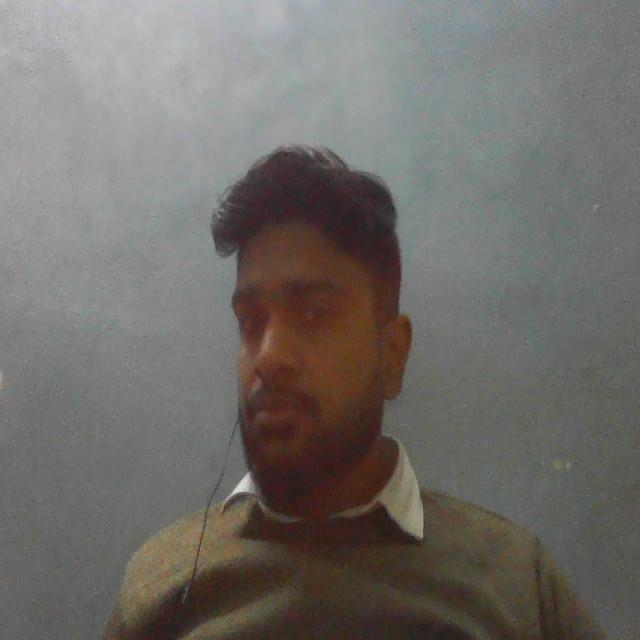real: (218, 140, 406, 495)
